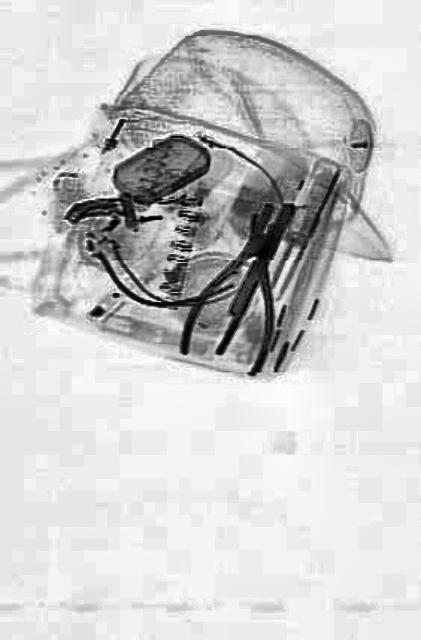Pliers: (175, 166, 314, 400)
